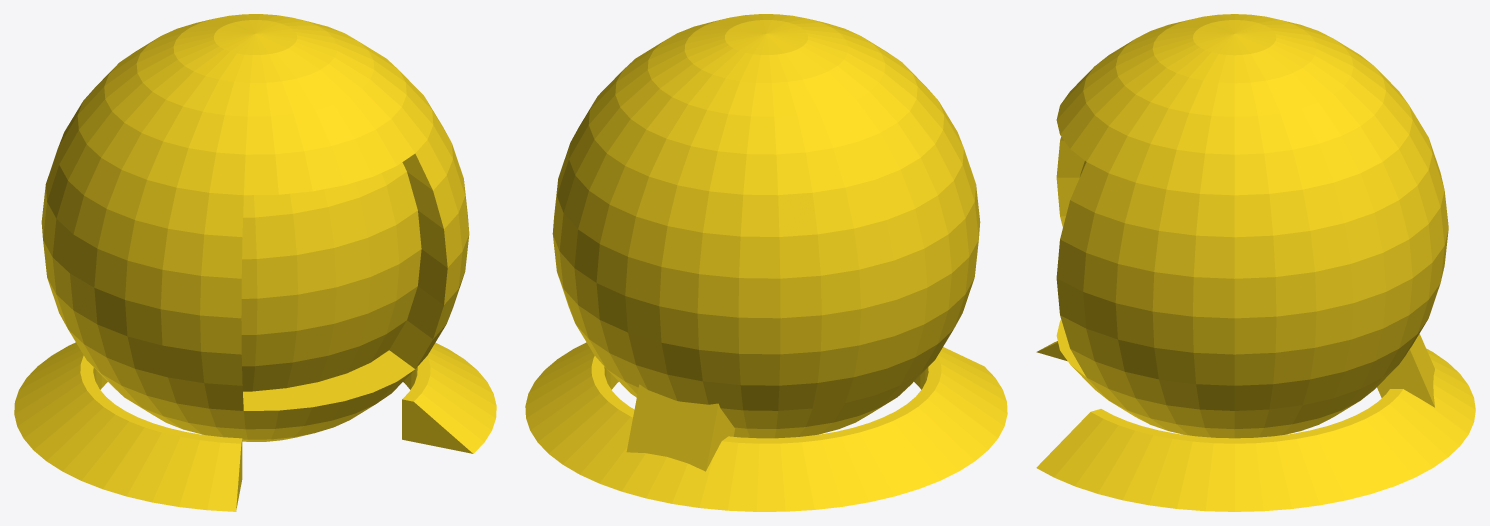
Rendered from Demo.obj.
The picture shows the model from 3 angles, left to right: view 1: azimuth 30°, elevation 25°; view 2: azimuth 150°, elevation 25°; view 3: azimuth 270°, elevation 25°; orthographic projection.
Parts seen in each view (by area): view 1: Cube_Cube.001; view 2: Cube_Cube.001; view 3: Cube_Cube.001.
Boxes of the visible parts, x1=… form: Cube_Cube.001: x1=14, y1=14, x2=496, y2=511; Cube_Cube.001: x1=525, y1=14, x2=1007, y2=511; Cube_Cube.001: x1=1036, y1=14, x2=1475, y2=511.
Bounding box in the file's own units: 2.25 × 2 × 2.05.
Materials: 1 (1 with a texture image).
